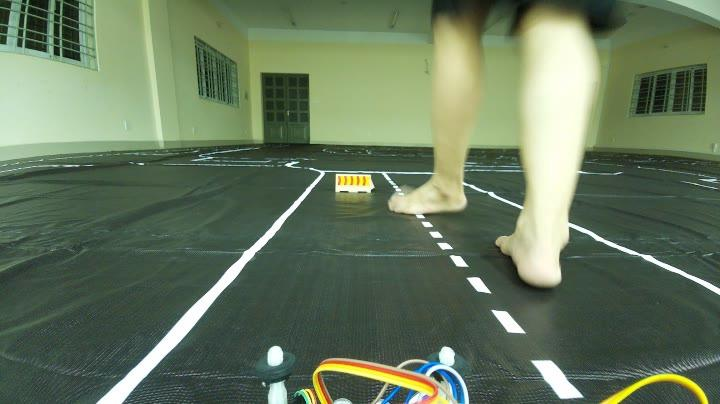roadblock: (328, 173, 378, 200)
